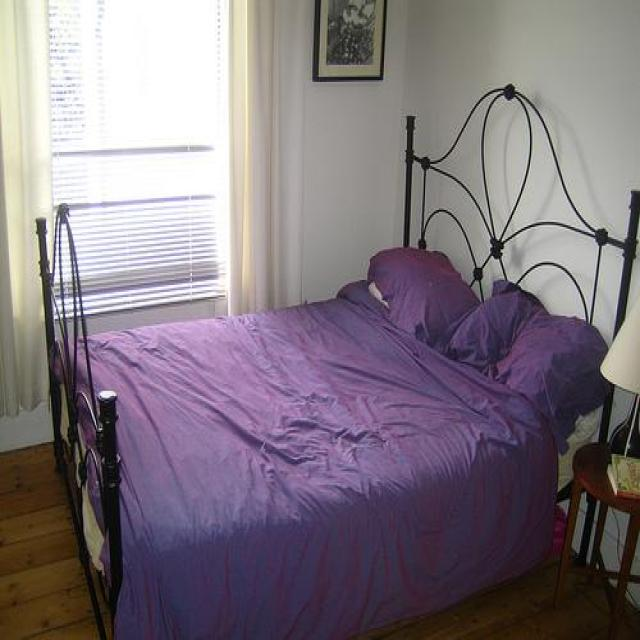bed: (29, 84, 640, 638)
